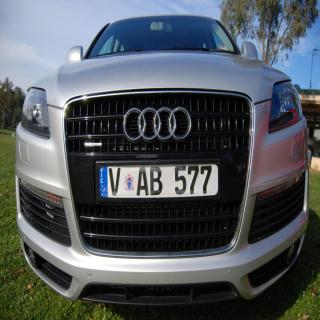license: (99, 165, 219, 198)
